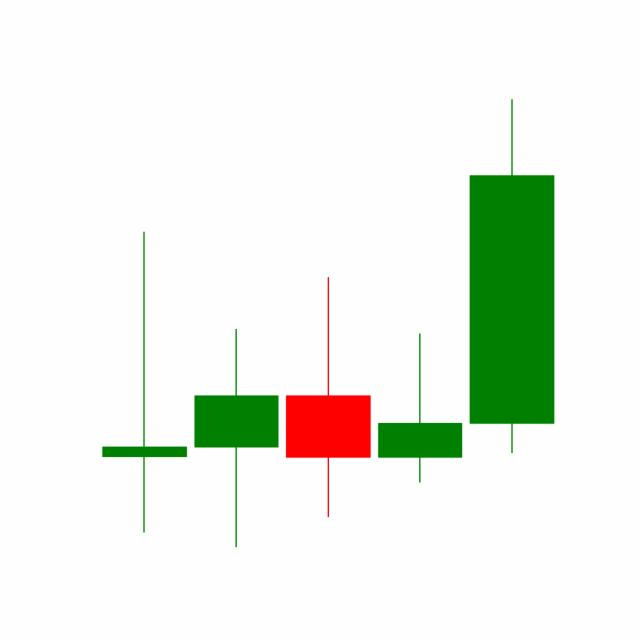Gravestone Doji: (373, 331, 467, 484)
